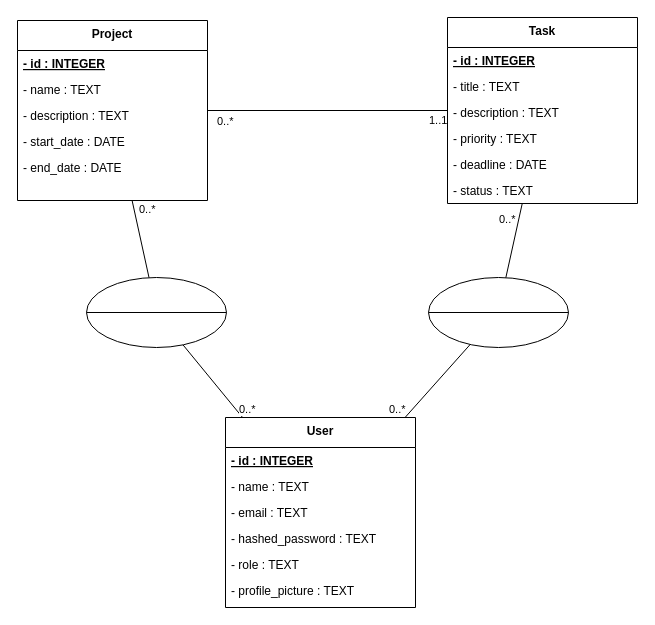
Some shapes in this 655 by 625 pixel diagram are drawn without their labels. The shapes that lost their labels are listed below. From the top down, each one's box as (x1, y1, x2, y2) in pixels, then its label:
(86, 276, 226, 348): work_on_project
(428, 276, 568, 348): work_on_task
